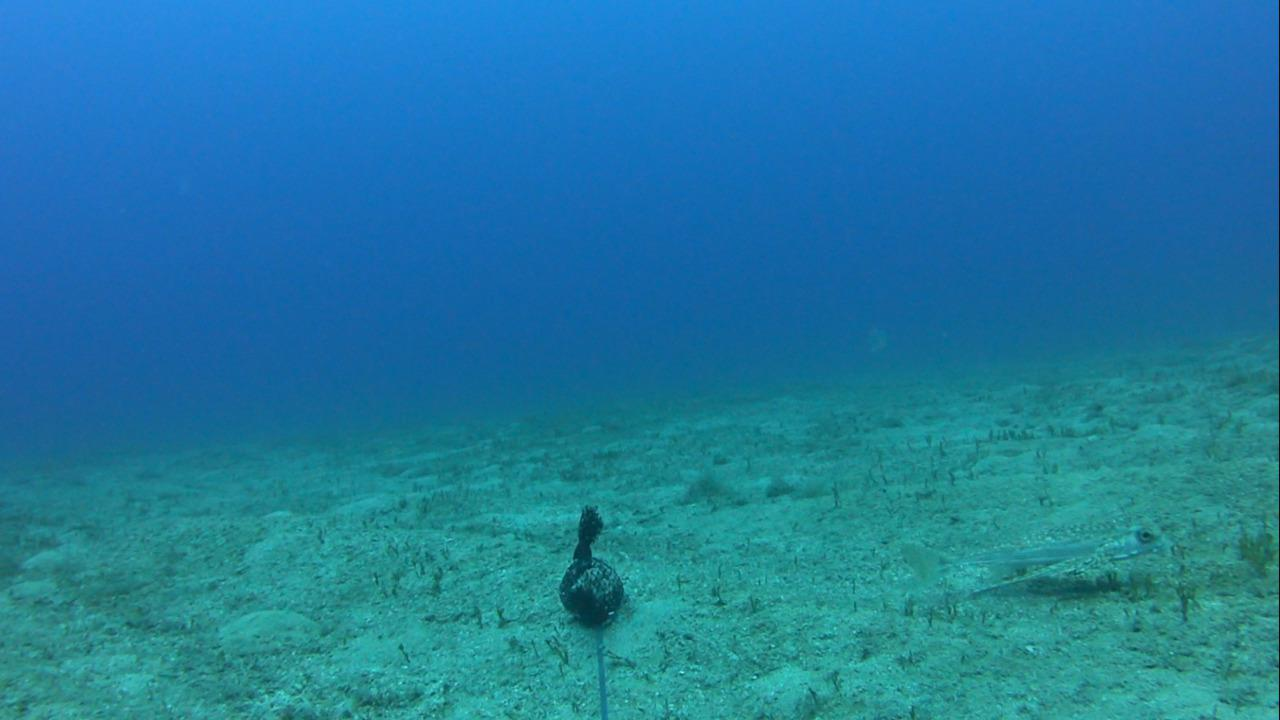dactylopterus: (940, 521, 1170, 612)
